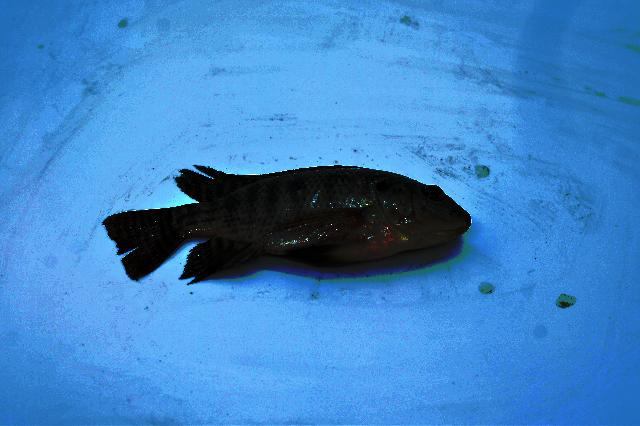Columnaris Disease: (103, 166, 471, 283)
